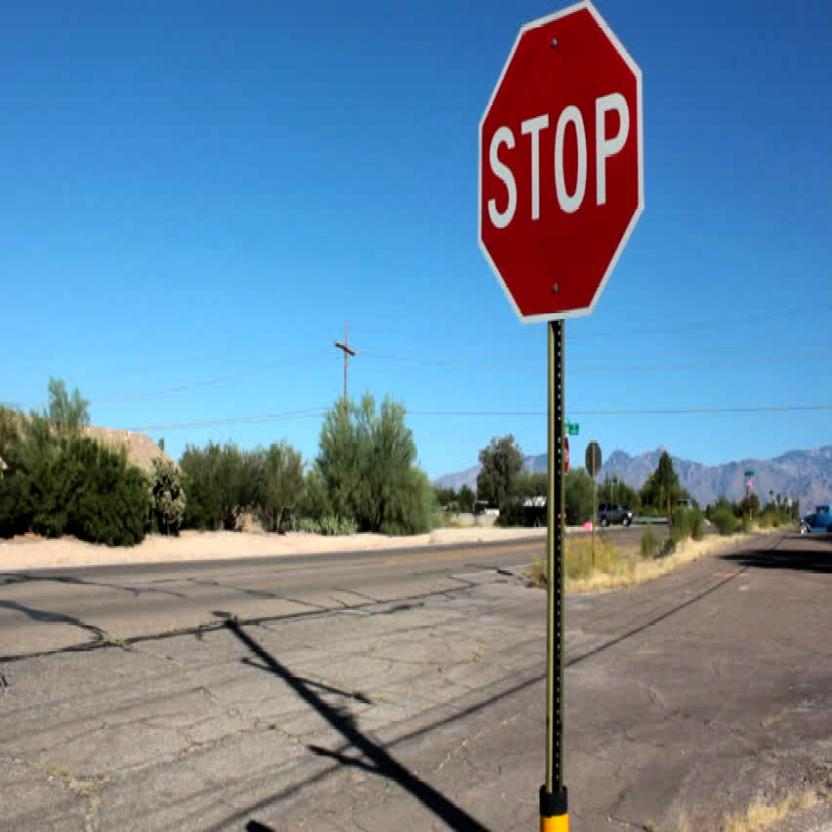Pole: (544, 325, 566, 825), (592, 477, 595, 568)
Sign: (476, 14, 646, 314), (583, 439, 603, 478)
